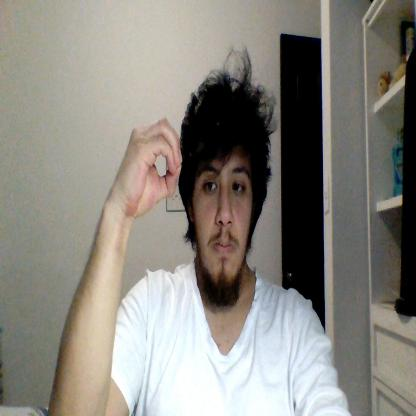O: (116, 118, 182, 215)
